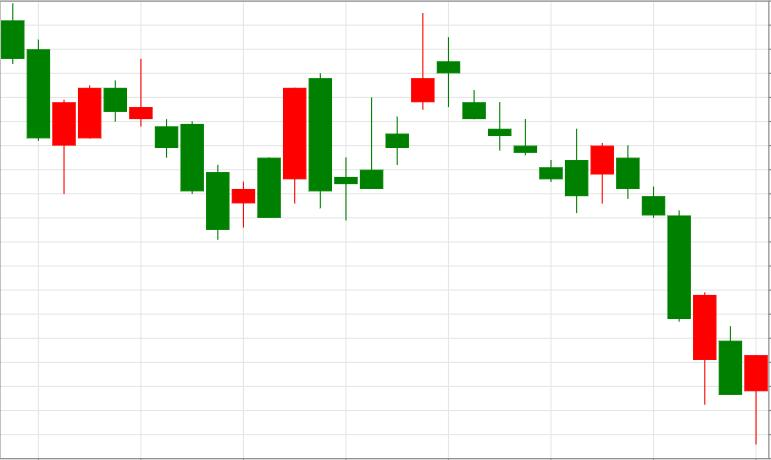hammer_rise: (616, 146, 768, 445)
